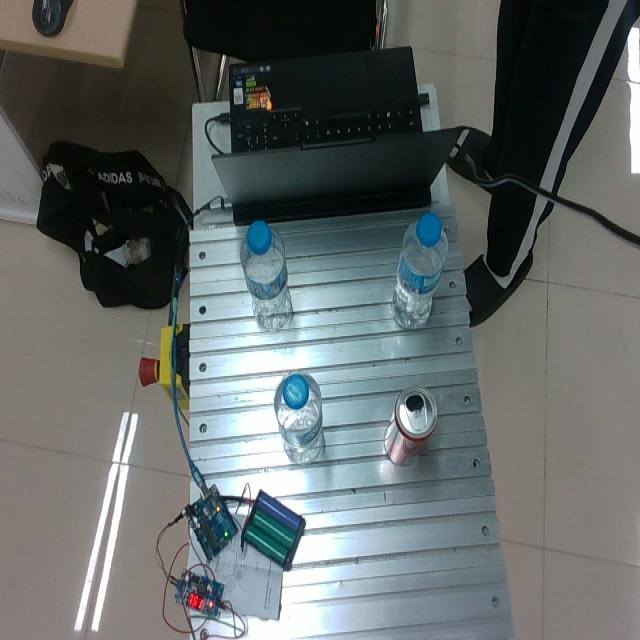coca: (384, 384, 438, 465)
lavie: (391, 212, 448, 329), (240, 218, 292, 330), (274, 371, 323, 464)
